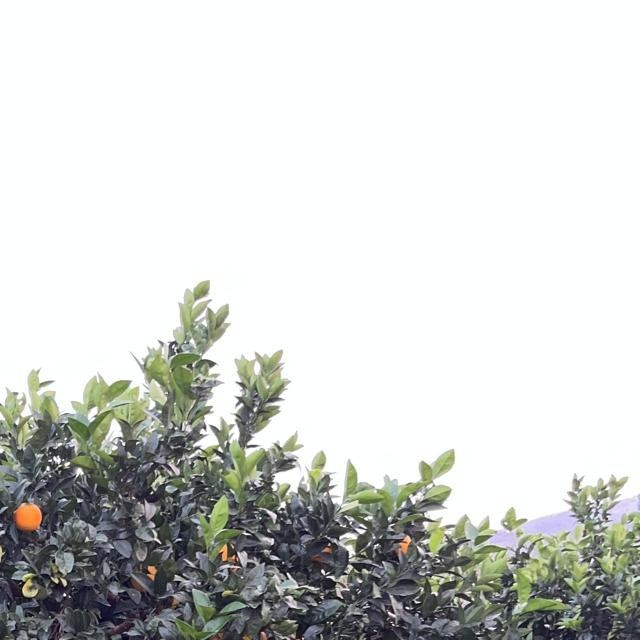orange: (309, 539, 335, 565), (132, 565, 154, 589), (16, 505, 36, 527), (394, 535, 412, 557), (219, 545, 235, 561), (211, 634, 223, 640)
